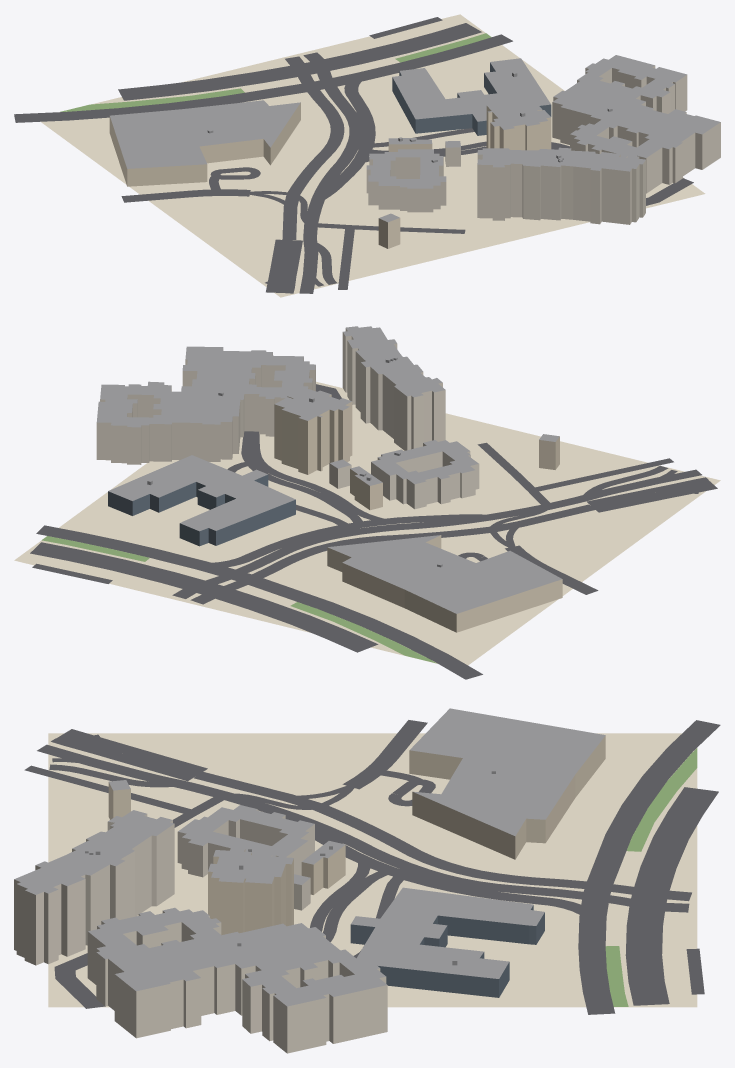
Rendered from tile_-2_4_far.glb.
3 views of the same model, one above another, from view 1: azimuth 30°, elevation 25°; view 2: azimuth 150°, elevation 25°; view 3: azimuth 270°, elevation 25° (orthographic). The views are drawn at different scales.
Visible parts, largest first — view 1: nature_ground, buildings_roof, roads_asphalt, buildings_concrete_warm, buildings_sandstone, buildings_glass_dark, nature_grass; view 2: nature_ground, buildings_roof, roads_asphalt, buildings_concrete_warm, buildings_sandstone, buildings_glass_dark, nature_grass; view 3: nature_ground, buildings_roof, roads_asphalt, buildings_concrete_warm, buildings_sandstone, buildings_glass_dark, nature_grass.
Boxes of the visible parts, <box> form: nature_ground: <box>40,14,705,297</box>; buildings_roof: <box>110,55,720,222</box>; roads_asphalt: <box>14,17,693,293</box>; buildings_concrete_warm: <box>366,65,720,224</box>; buildings_sandstone: <box>109,102,551,248</box>; buildings_glass_dark: <box>392,63,551,135</box>; nature_grass: <box>60,33,491,111</box>; nature_ground: <box>14,381,720,665</box>; buildings_roof: <box>97,326,562,613</box>; roads_asphalt: <box>30,384,717,679</box>; buildings_concrete_warm: <box>96,328,479,509</box>; buildings_sandstone: <box>274,394,562,632</box>; buildings_glass_dark: <box>108,474,295,546</box>; nature_grass: <box>42,536,436,663</box>; nature_ground: <box>48,733,697,1007</box>; buildings_roof: <box>14,708,605,1006</box>; roads_asphalt: <box>24,720,720,1014</box>; buildings_concrete_warm: <box>14,809,387,1053</box>; buildings_sandstone: <box>108,736,605,935</box>; buildings_glass_dark: <box>350,905,544,997</box>; nature_grass: <box>605,748,697,1006</box>.
Bounding box in the file's own units: 304 × 31.5 × 272.
